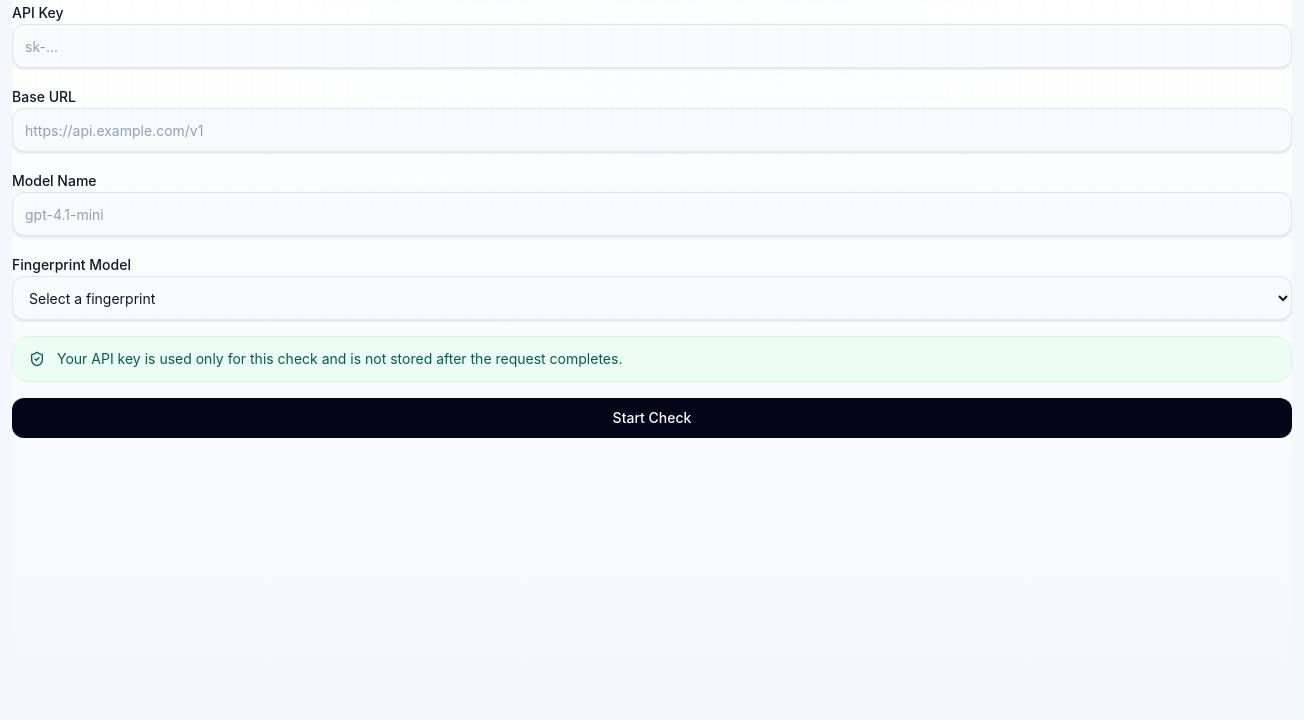
Test: shows validation errors before submit
Click the button "Start Check": click(652, 418) [12, 398, 1292, 438]
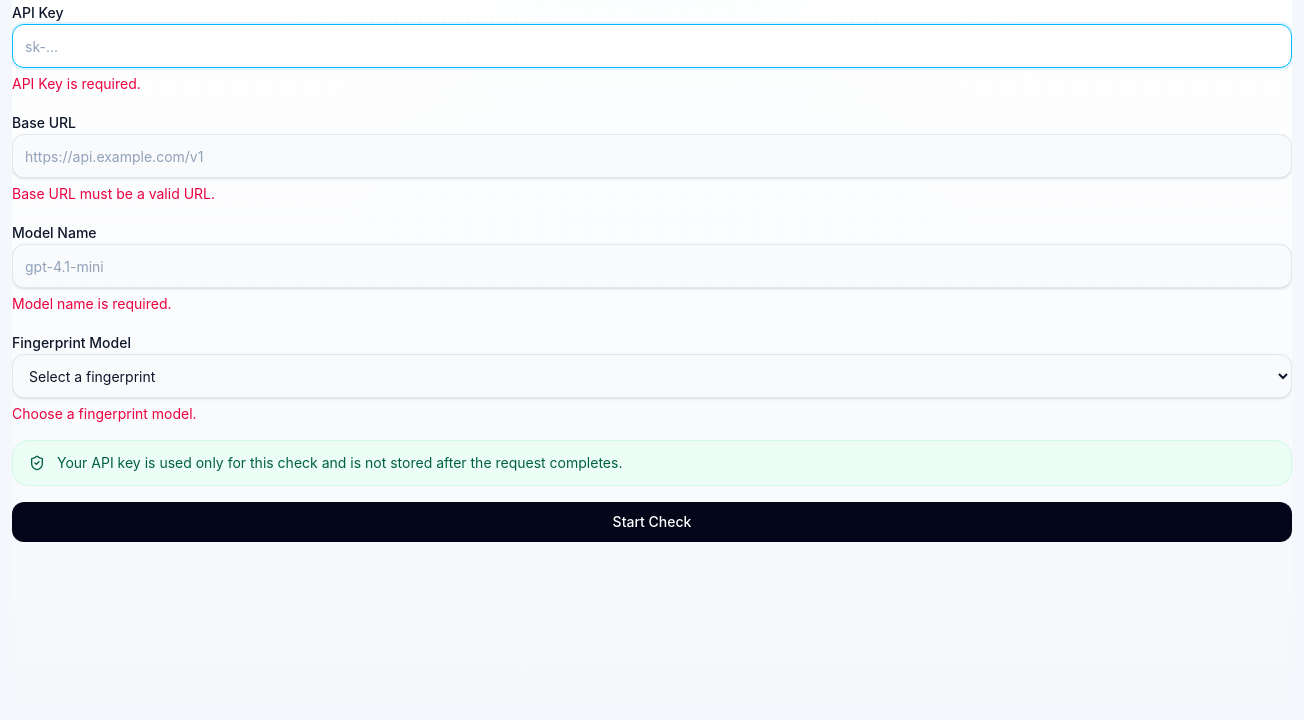
Expected: the text "API Key is required." is shown, [12, 75, 141, 92]
Expected: the text "Base URL must be a valid URL." is shown, [12, 185, 215, 202]
Expected: the text "Model name is required." is shown, [12, 295, 172, 312]
